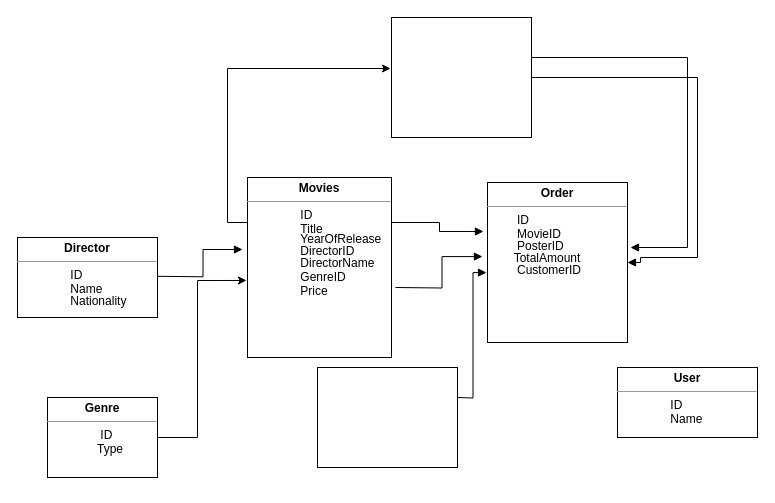
This 775x503 diagram has some shape labels left out. Each missing label, with the box of its shape:
Customer ID Name Address City E-mail: (316, 366, 458, 468)
Posters ID MovieID P rice: (390, 16, 532, 138)
